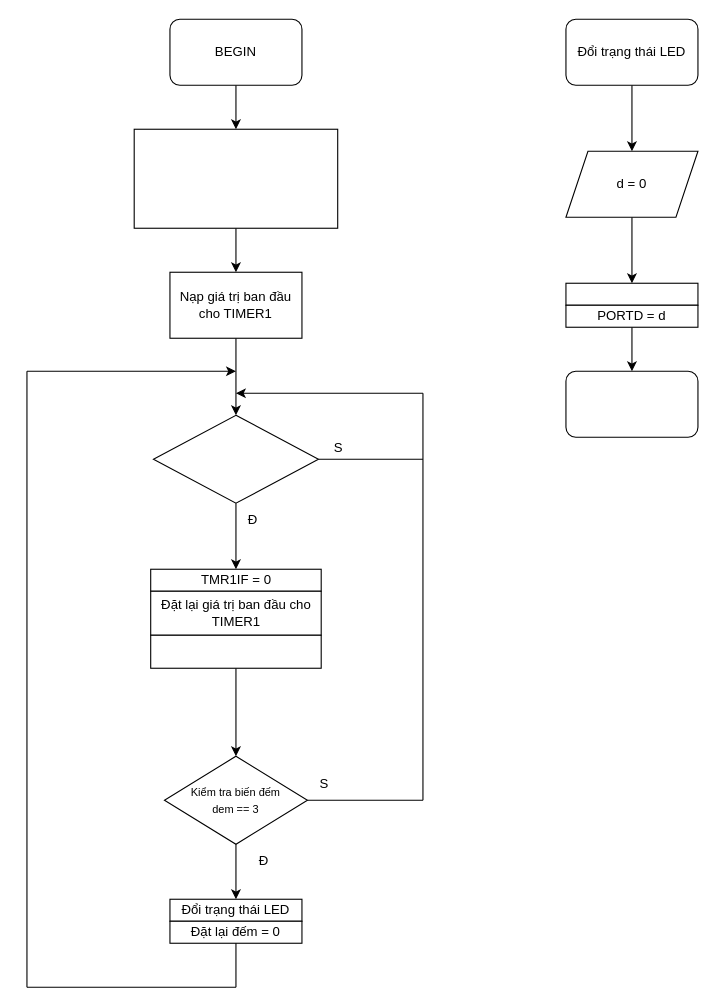
Image size: 717x1008. Some labels were removed from this diagram. The shapes that lost their labels are listed below. From the top down, each one's centre as x and y in pixels, then its label:
At point 235,178: "Khai báo PORT Khởi tạo TIMER1 Khởi tạo biến đếm Khai báo cờ ngắt".
At point 631,293: "d = ~d = 0xFF".
At point 631,403: "END".
At point 235,458: "Kiểm tra cờ ngắt TMR1IF == 1".
At point 235,651: "Tăng biến đếm".
